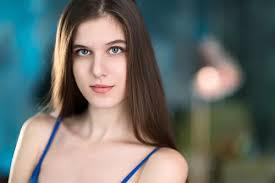person: (56, 1, 158, 114)
